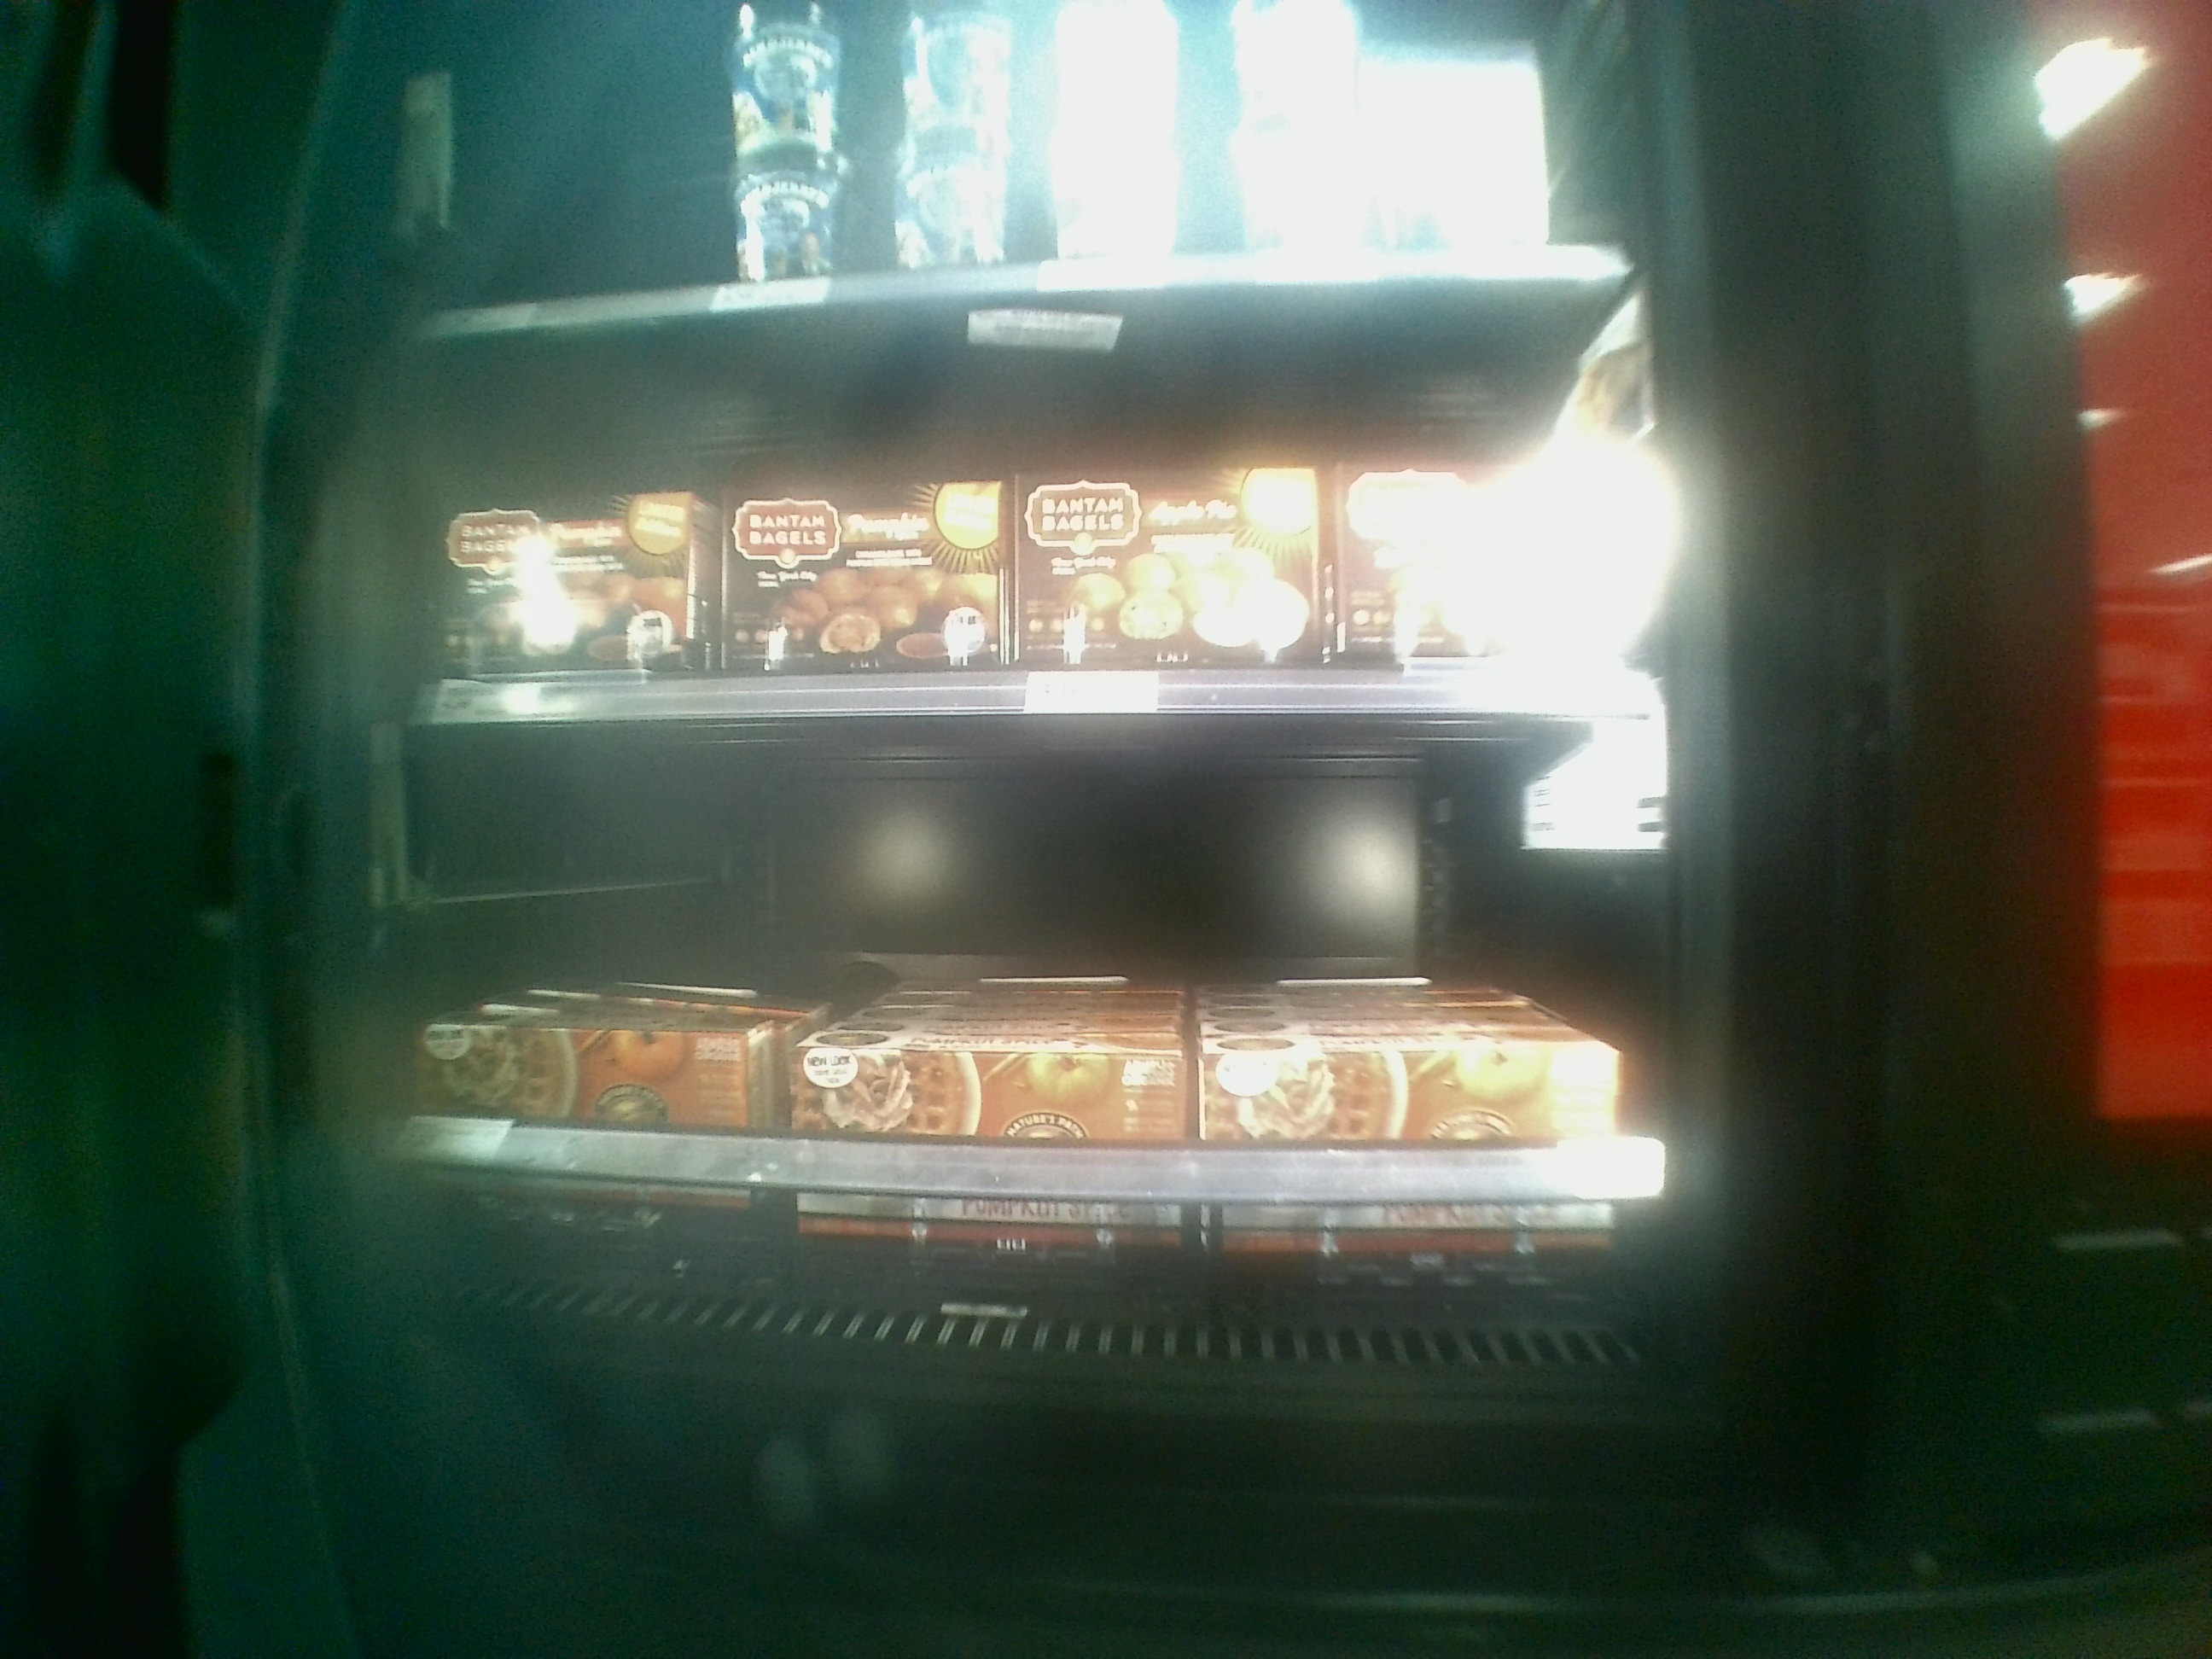shelf: (381, 721, 1688, 1410), (374, 343, 1674, 718)
